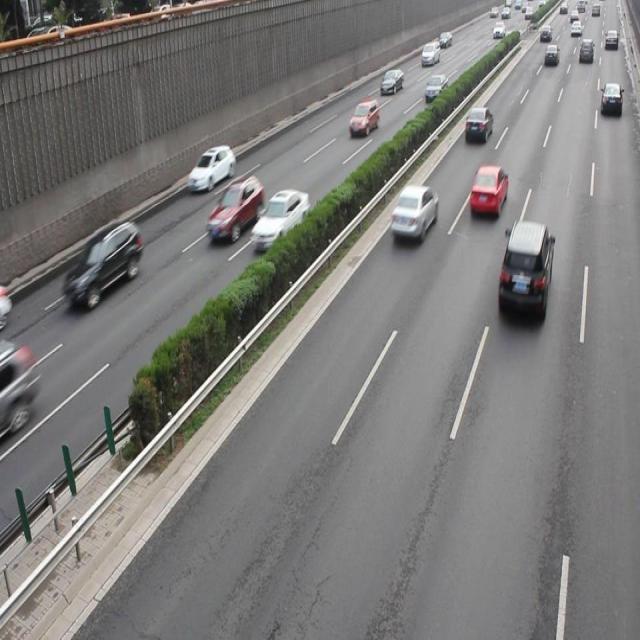car: (62, 220, 142, 306), (497, 221, 552, 321), (205, 173, 263, 244), (250, 188, 309, 253), (388, 184, 437, 244), (187, 143, 236, 191), (468, 165, 507, 219), (463, 105, 492, 144), (348, 99, 377, 137)
